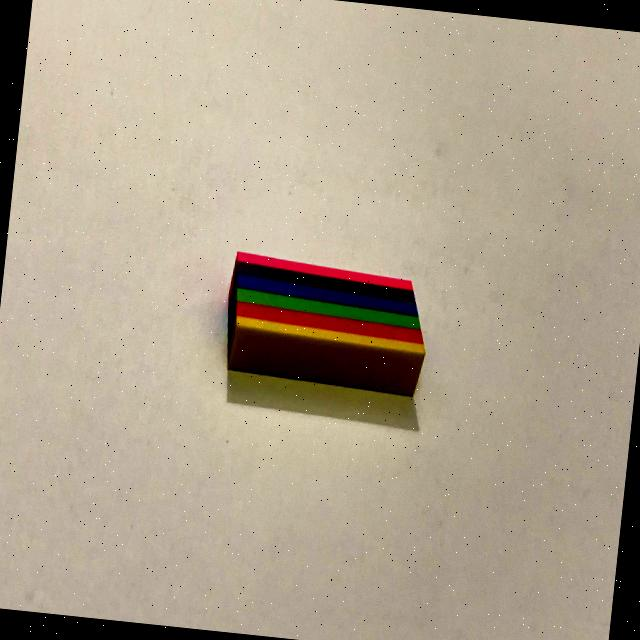Eraser: (180, 193, 462, 461)
